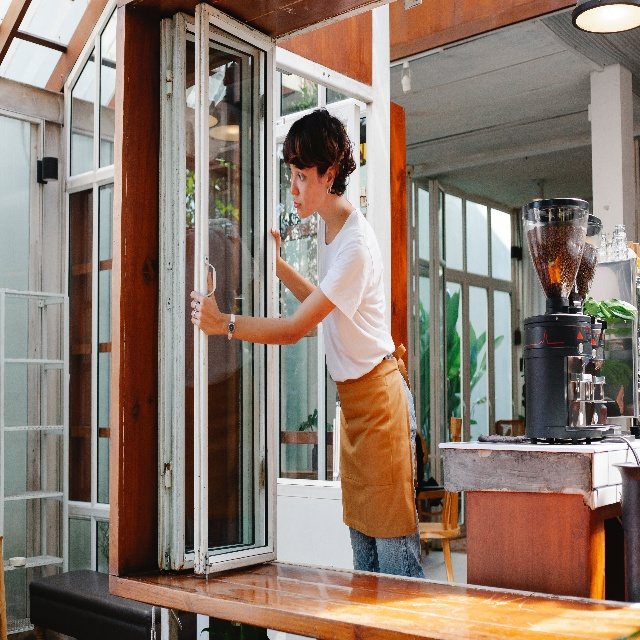Sin_guantes: (190, 271, 221, 336), (271, 227, 282, 263)
